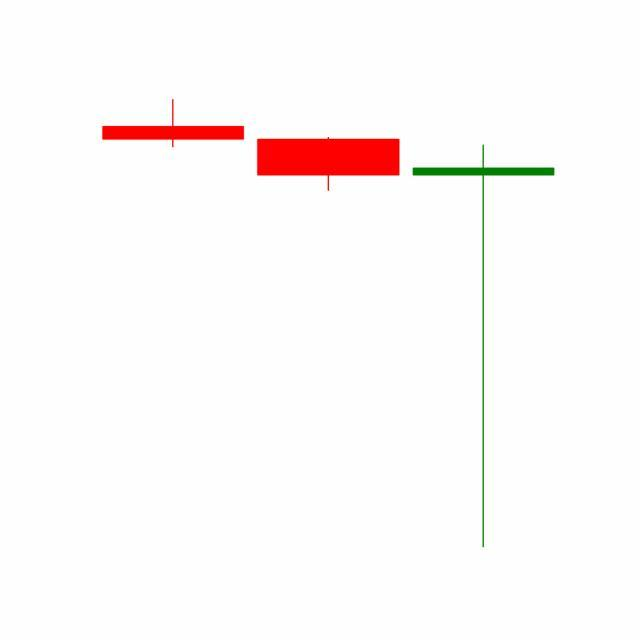Spinning Top: (406, 141, 562, 553)
